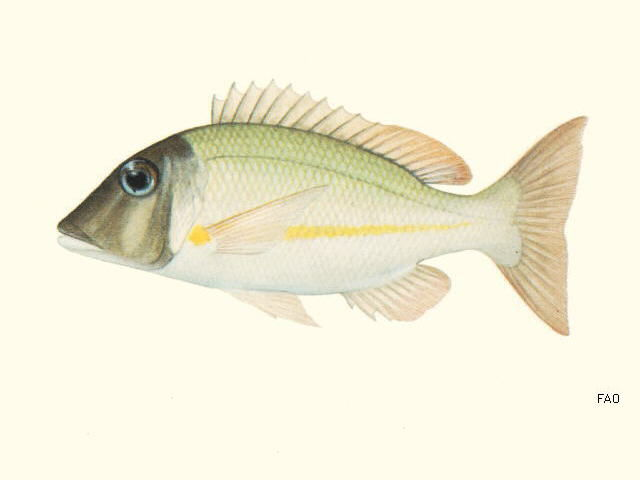fish: (56, 79, 590, 336)
